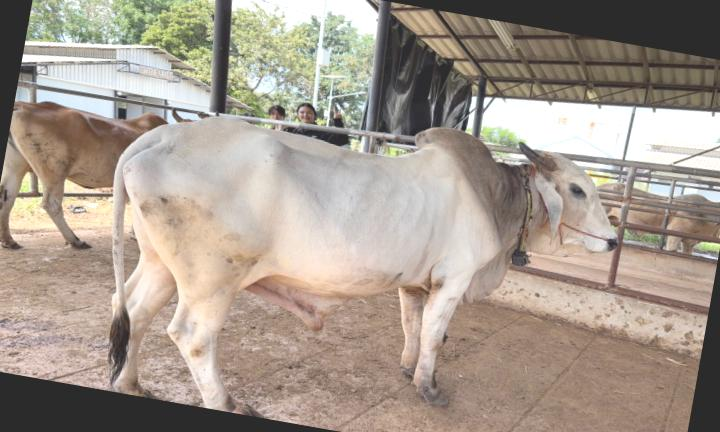Brahman: (109, 117, 617, 418)
